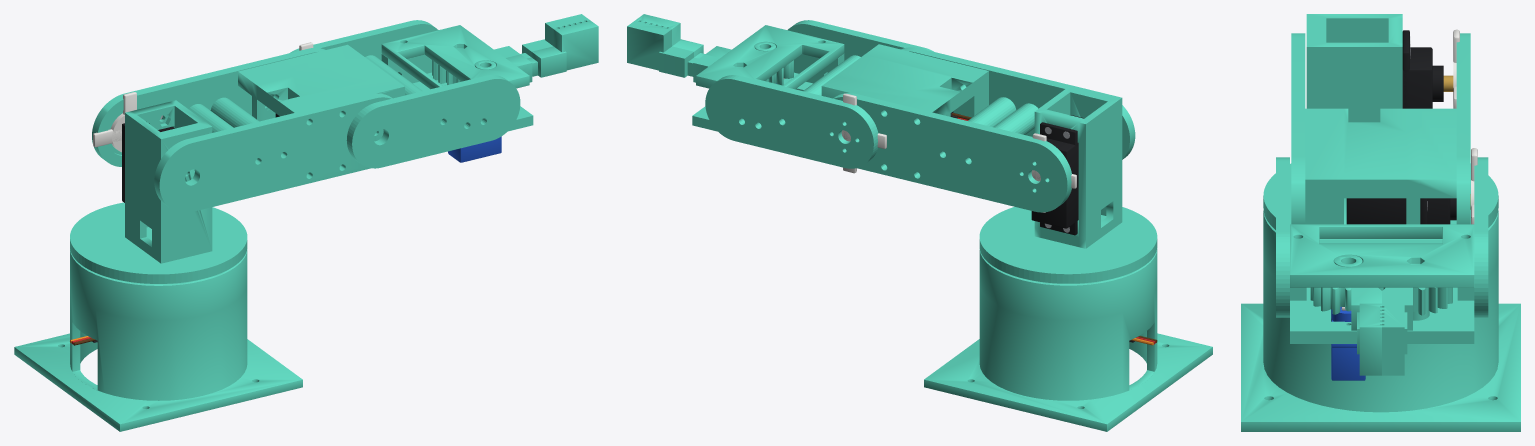
File: brazo.glb
3 renders of one model, left to right at view 1: azimuth 30°, elevation 25°; view 2: azimuth 150°, elevation 25°; view 3: azimuth 270°, elevation 25°, orthographic. The views are drawn at different scales.
Parts seen in each view (by area): view 1: P07, P08, P09B, P10B, P35, P34, P09A, P31, P10A, P32, S2_hombro, P30 (+2 smaller); view 2: P07, P08, P09A, P10A, P35, P34, P09B, P32, S2_hombro, P10B, P31, P30 (+2 smaller); view 3: P07, P35, P34, P08, P30, P31, P32, S3_codo, S2_hombro, P09B, P09A, P10A (+3 smaller).
Part boxes in pixels (left/top/right/bottom): P07: left=14, top=249, right=302, bottom=431; P08: left=70, top=100, right=247, bottom=283; P09B: left=154, top=93, right=392, bottom=212; P10B: left=346, top=75, right=520, bottom=168; P35: left=238, top=44, right=404, bottom=121; P34: left=381, top=25, right=529, bottom=89; P09A: left=92, top=48, right=325, bottom=166; P31: left=457, top=20, right=598, bottom=82; P10A: left=289, top=20, right=438, bottom=73; P32: left=432, top=14, right=589, bottom=84; S2_hombro: left=93, top=92, right=174, bottom=202; P30: left=381, top=54, right=533, bottom=131; P07: left=924, top=248, right=1212, bottom=431; P08: left=979, top=85, right=1157, bottom=283; P09A: left=833, top=93, right=1071, bottom=212; P10A: left=705, top=75, right=878, bottom=168; P35: left=821, top=44, right=988, bottom=117; P34: left=696, top=25, right=844, bottom=89; P09B: left=901, top=47, right=1135, bottom=159; P32: left=627, top=20, right=768, bottom=82; S2_hombro: left=1031, top=115, right=1084, bottom=235; P10B: left=787, top=20, right=933, bottom=73; P31: left=636, top=14, right=793, bottom=85; P30: left=692, top=54, right=844, bottom=131; P07: left=1241, top=211, right=1520, bottom=431; P35: left=1305, top=108, right=1456, bottom=224; P34: left=1290, top=224, right=1474, bottom=287; P08: left=1263, top=14, right=1498, bottom=229; P30: left=1290, top=287, right=1474, bottom=343; P31: left=1310, top=255, right=1383, bottom=375; P32: left=1382, top=287, right=1452, bottom=375; S3_codo: left=1346, top=148, right=1477, bottom=224; S2_hombro: left=1402, top=29, right=1459, bottom=108; P09B: left=1291, top=33, right=1305, bottom=224; P09A: left=1456, top=33, right=1470, bottom=224; P10A: left=1474, top=157, right=1488, bottom=317.
Size of the model in its own units: 0.286 by 0.135 by 0.1.
